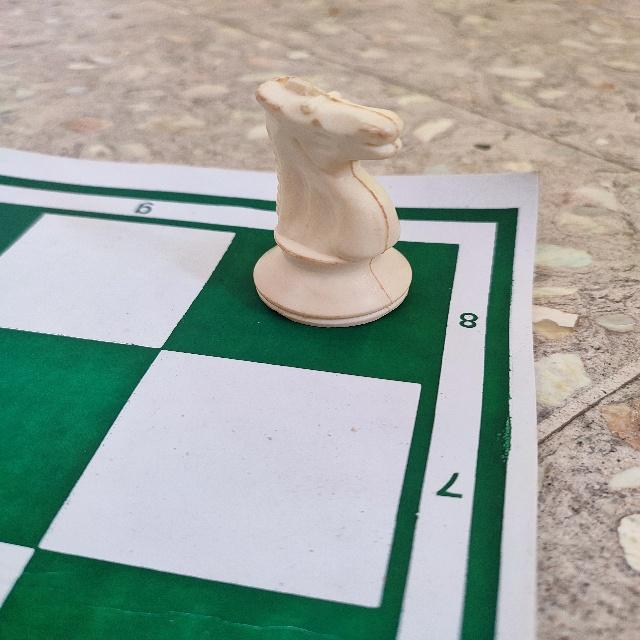Knight: (246, 71, 417, 333)
